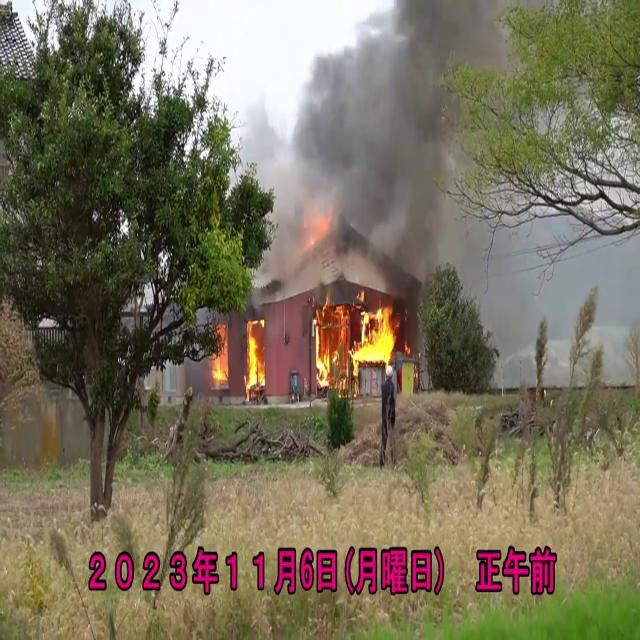Fire: (312, 285, 402, 387), (210, 318, 266, 398), (243, 318, 266, 396)
Smoke: (258, 0, 498, 287)
